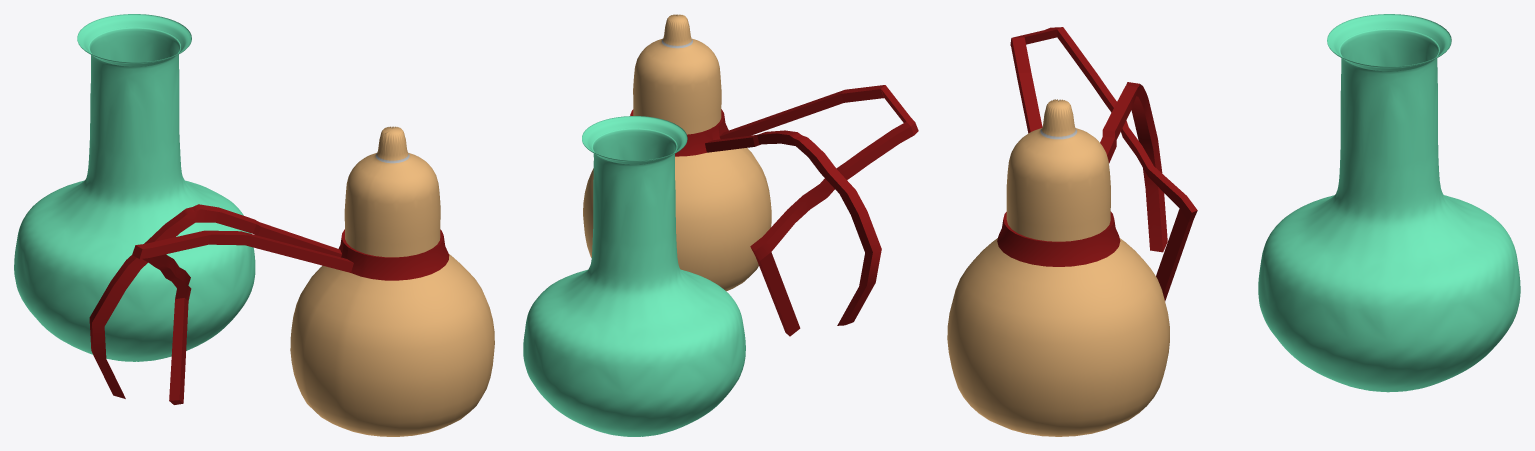
The model's file is Bases.fbx.
3 views of the same model, side by side, from view 1: azimuth 30°, elevation 25°; view 2: azimuth 150°, elevation 25°; view 3: azimuth 270°, elevation 25° (orthographic). The views are drawn at different scales.
Visible parts, largest first — view 1: nurbsToPoly4, vase.001; view 2: vase.001, nurbsToPoly4; view 3: vase.001, nurbsToPoly4.
Boxes of the visible parts, x1,y1,x2,y2 form: nurbsToPoly4: [89, 126, 494, 436]; vase.001: [14, 14, 255, 361]; vase.001: [523, 116, 745, 436]; nurbsToPoly4: [583, 14, 918, 336]; vase.001: [1258, 14, 1520, 392]; nurbsToPoly4: [947, 27, 1197, 436].
Size of the model in its own units: 395 by 331 by 516.
